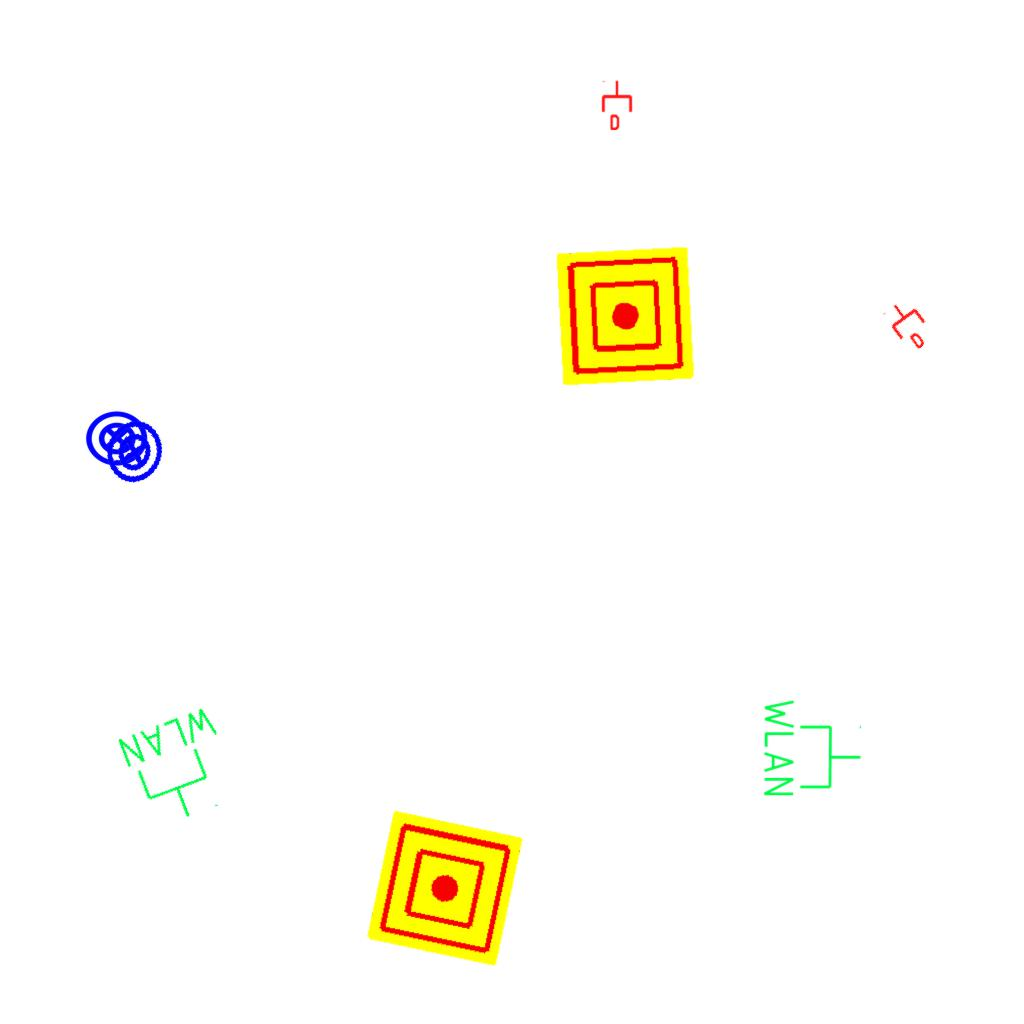Datenanschluss_einfach: (880, 294, 938, 356), (600, 80, 634, 130)
NAM-Nichtautomatischer_Melder: (366, 809, 524, 967), (555, 246, 695, 386)
Taster_beleuchtet: (94, 411, 176, 493), (84, 405, 150, 471)
WLAN: (112, 700, 248, 835), (760, 695, 864, 800)
